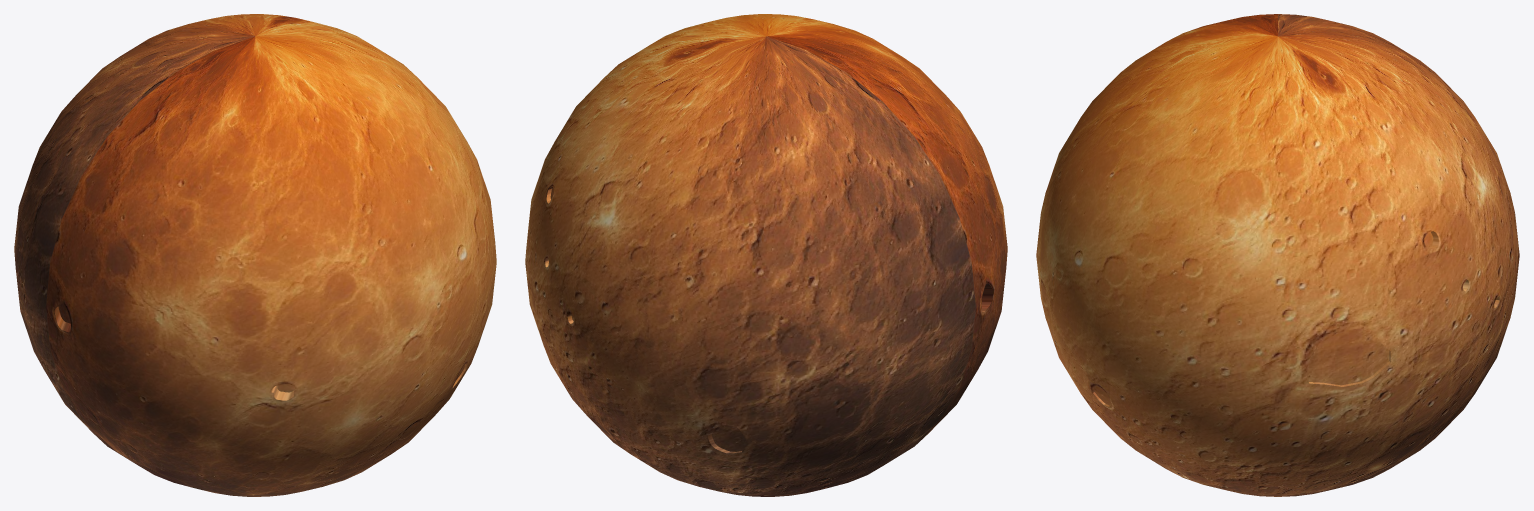
Rendered from Merkury 1.fbx.
3 renders of one model, left to right at view 1: azimuth 30°, elevation 25°; view 2: azimuth 150°, elevation 25°; view 3: azimuth 270°, elevation 25°, orthographic.
Visible parts, largest first — view 1: Sphere; view 2: Sphere; view 3: Sphere.
Boxes of the visible parts, <box> form: Sphere: <box>14,14,496,496</box>; Sphere: <box>525,14,1007,496</box>; Sphere: <box>1036,14,1519,496</box>.
Bounding box in the file's own units: 200 × 200 × 200.
